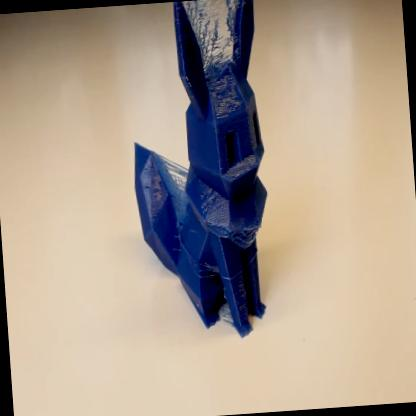fail: (190, 1, 246, 63), (230, 227, 265, 255)
